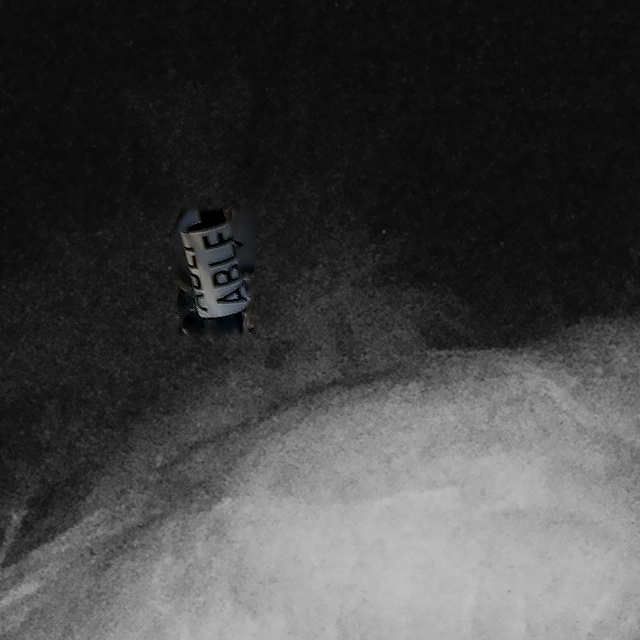tag: (172, 206, 260, 338)
